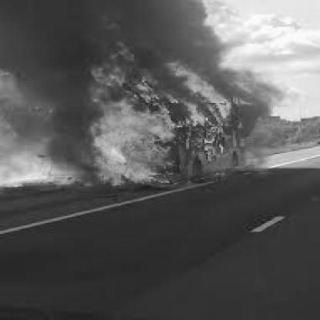Fire: (57, 36, 261, 192)
Smoke: (0, 1, 223, 59)
